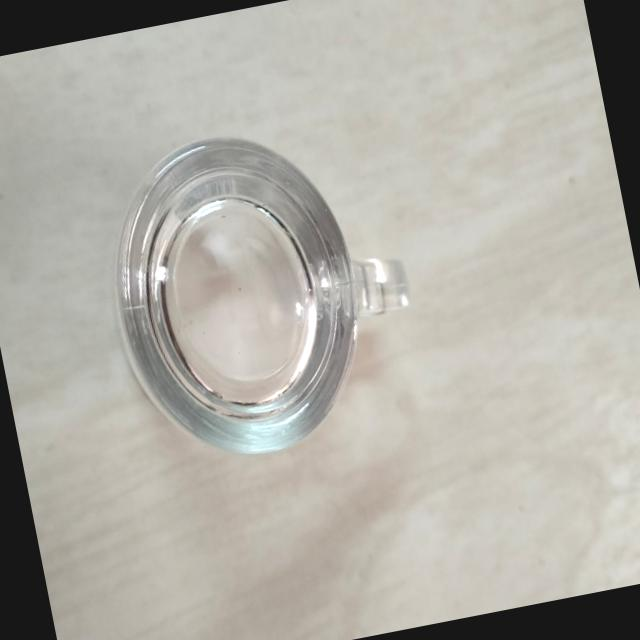glass-VX4N: (81, 106, 435, 470)
